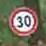limite 30: (7, 6, 38, 36)
